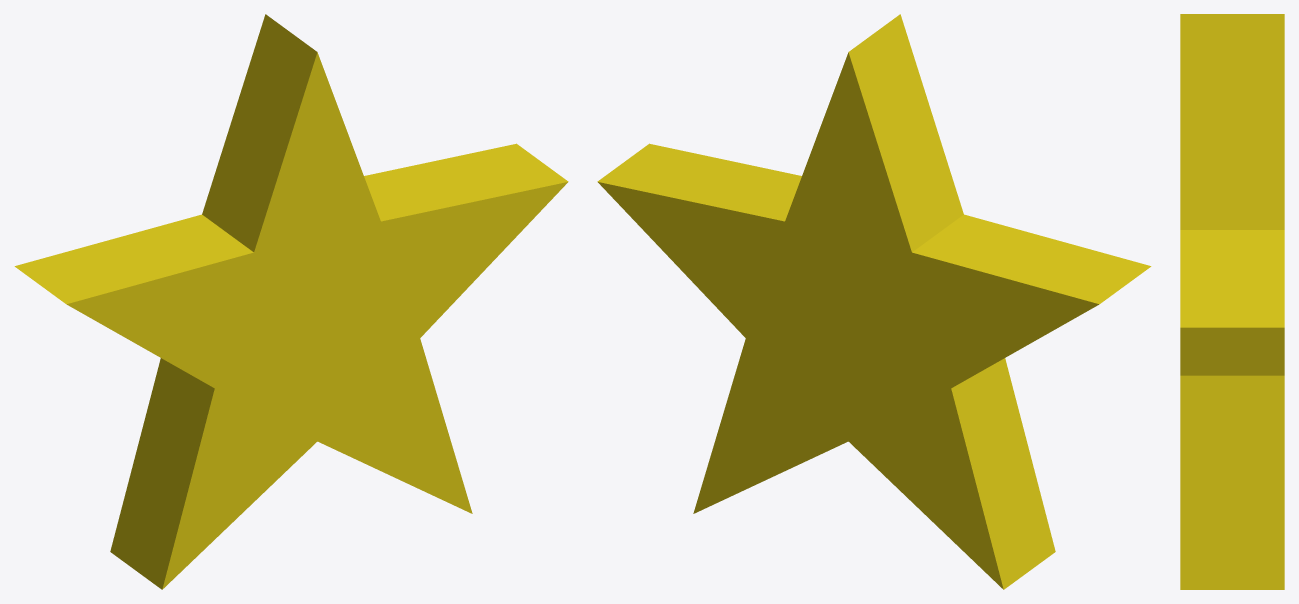
Rendered from Invincibility.fbx.
The picture shows the model from 3 angles, left to right: view 1: azimuth 30°, elevation 25°; view 2: azimuth 150°, elevation 25°; view 3: azimuth 270°, elevation 25°; orthographic projection.
Visible parts, largest first — view 1: Circle; view 2: Circle; view 3: Circle.
Boxes of the visible parts, left/top/right/bottom form: Circle: left=14, top=14, right=568, bottom=589; Circle: left=597, top=14, right=1151, bottom=589; Circle: left=1180, top=14, right=1284, bottom=589.
Size of the model in its own units: 190 by 181 by 34.1.
